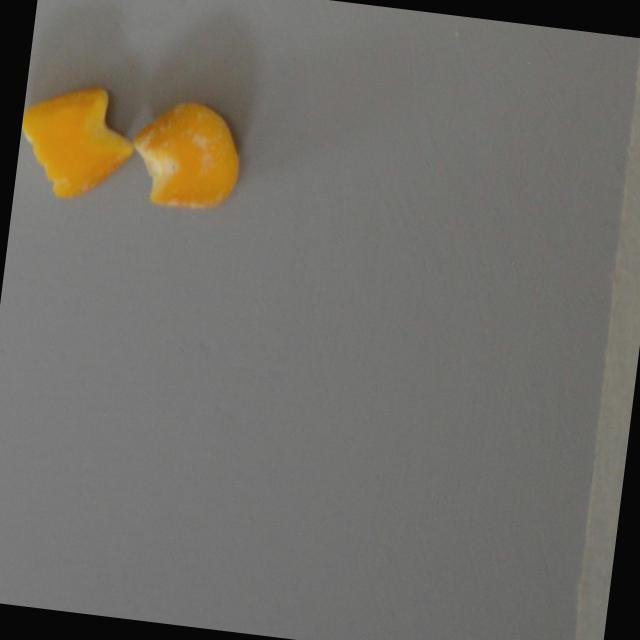dañado: (13, 72, 144, 210)
punto_negro: (119, 88, 253, 219)
